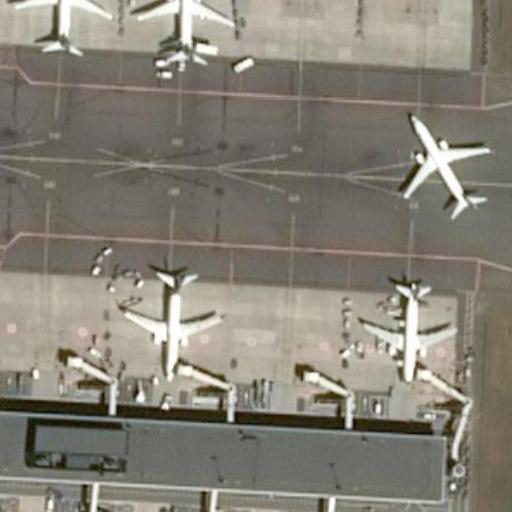Aircraft: (395, 110, 496, 220), (119, 266, 223, 371), (357, 280, 458, 379), (138, 0, 238, 70), (17, 0, 108, 60)
